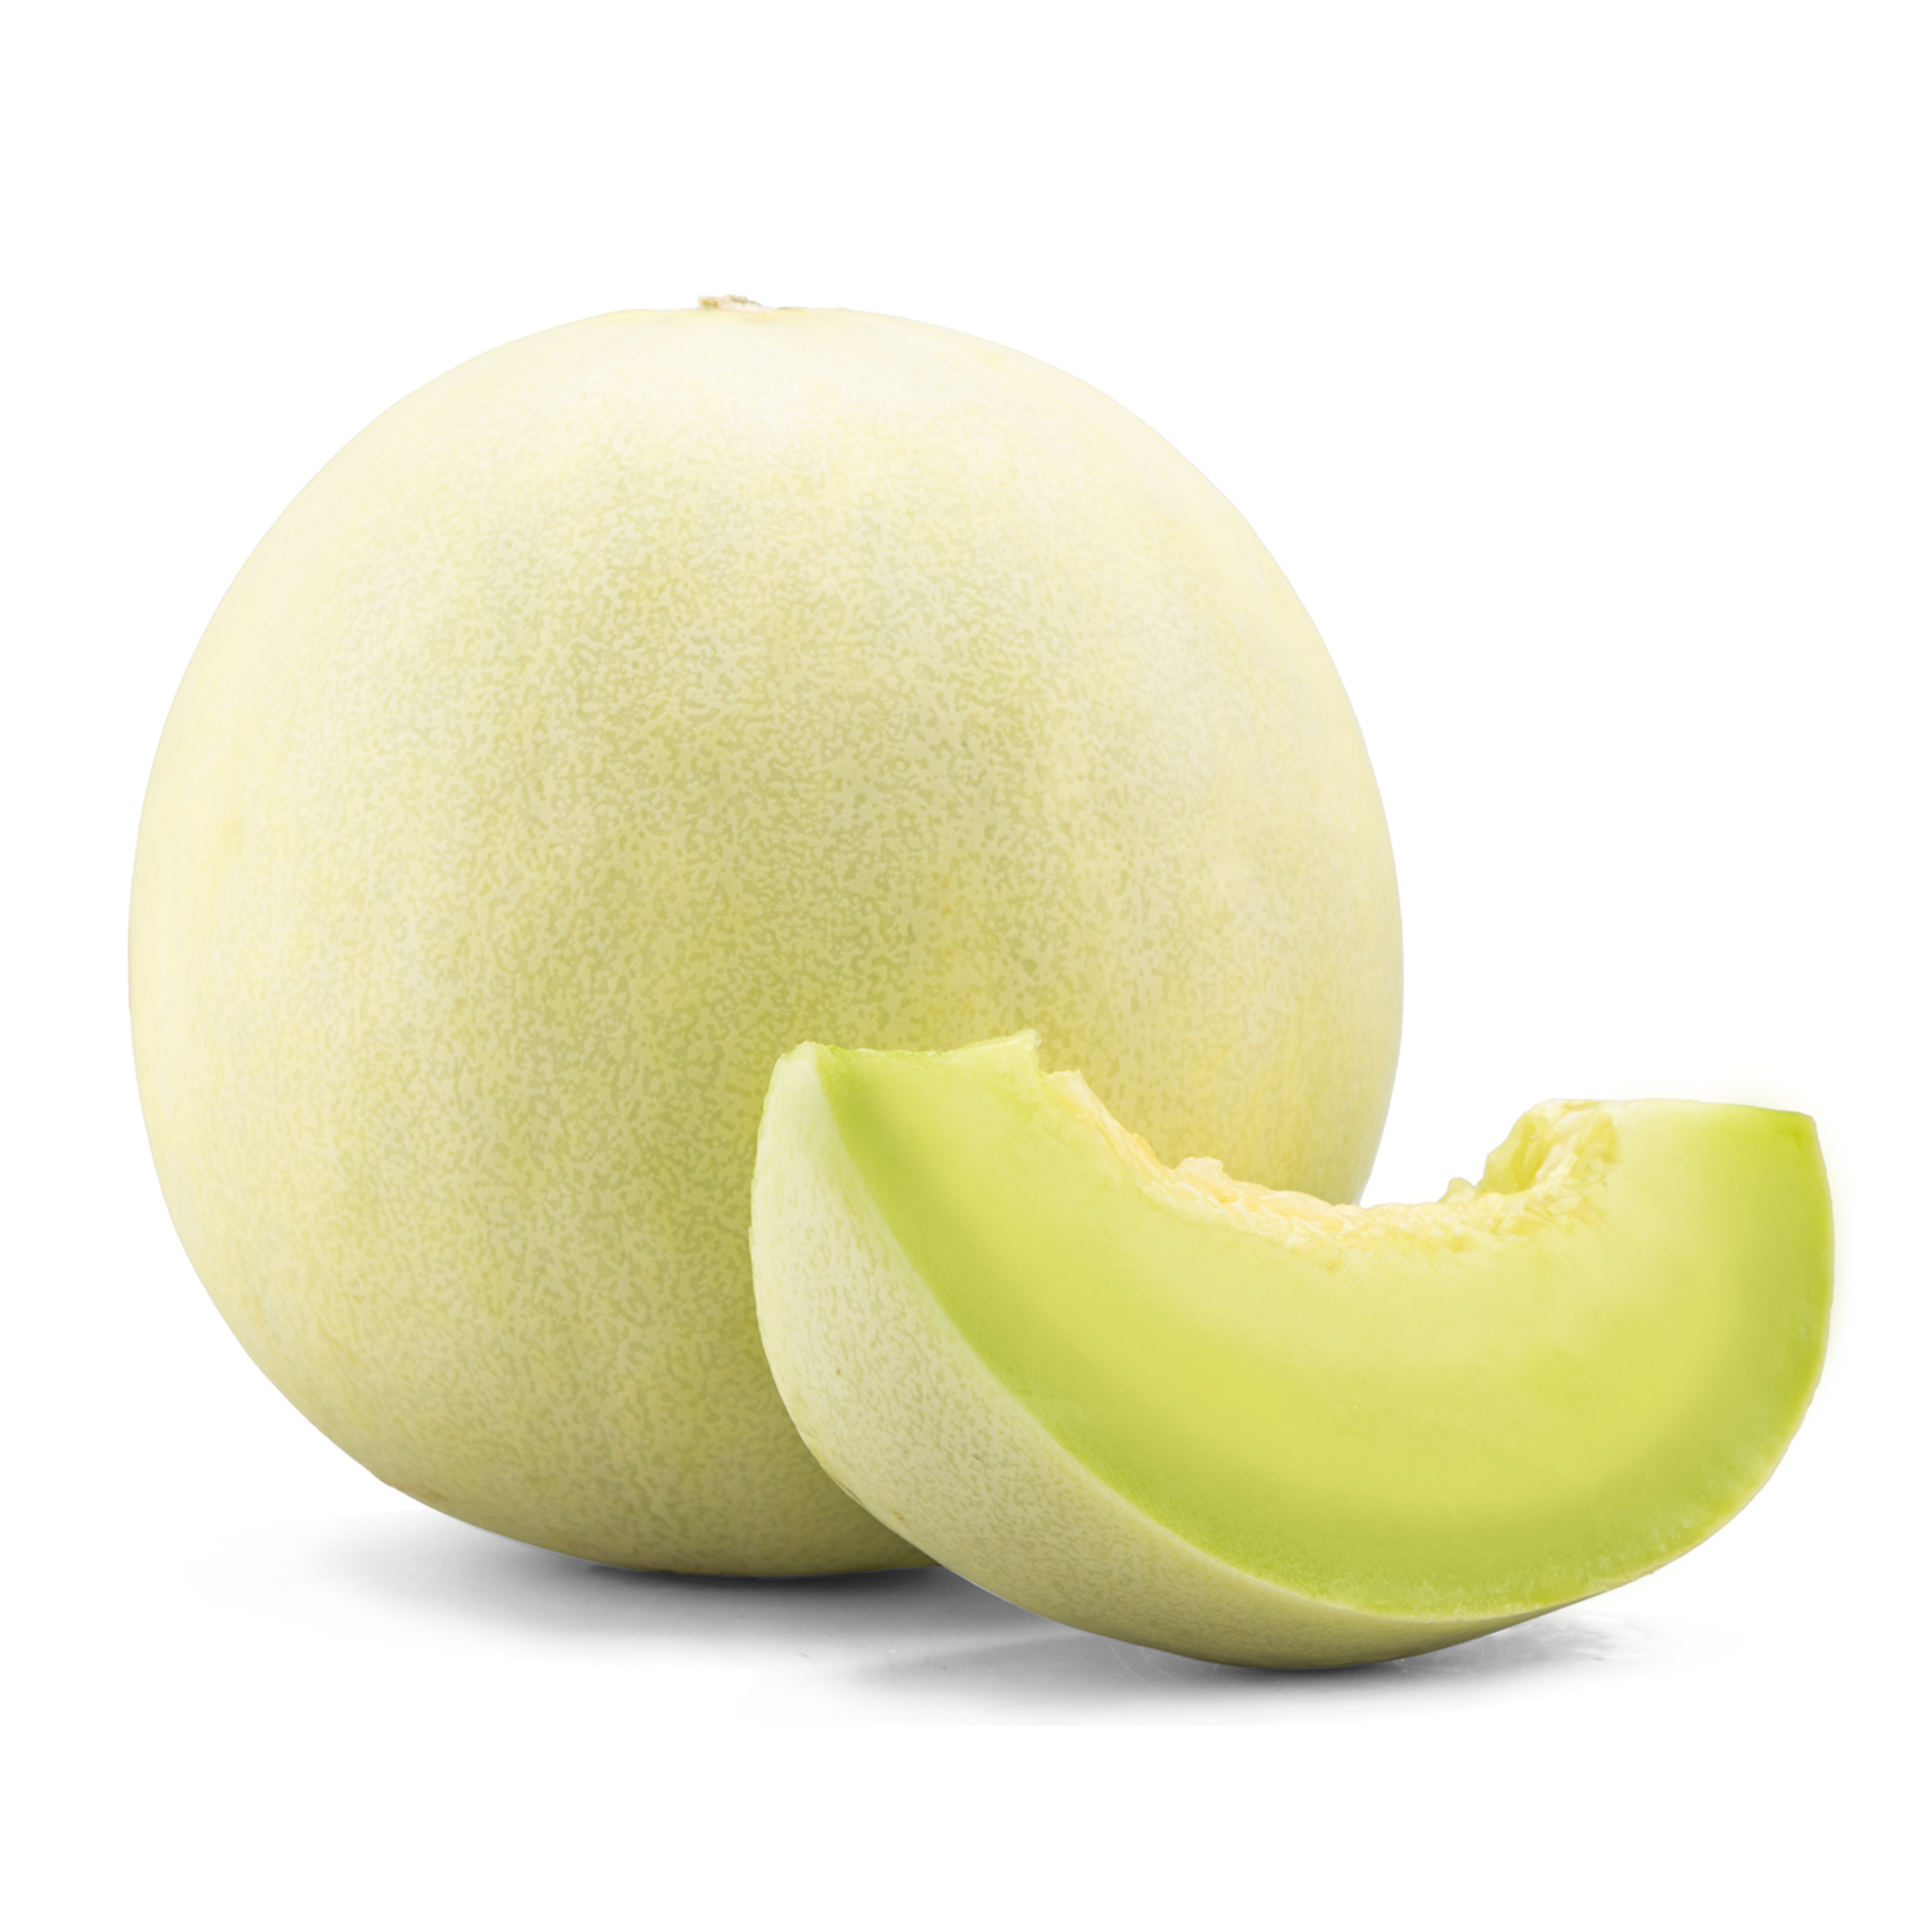Melon: (640, 973, 1895, 1730)
